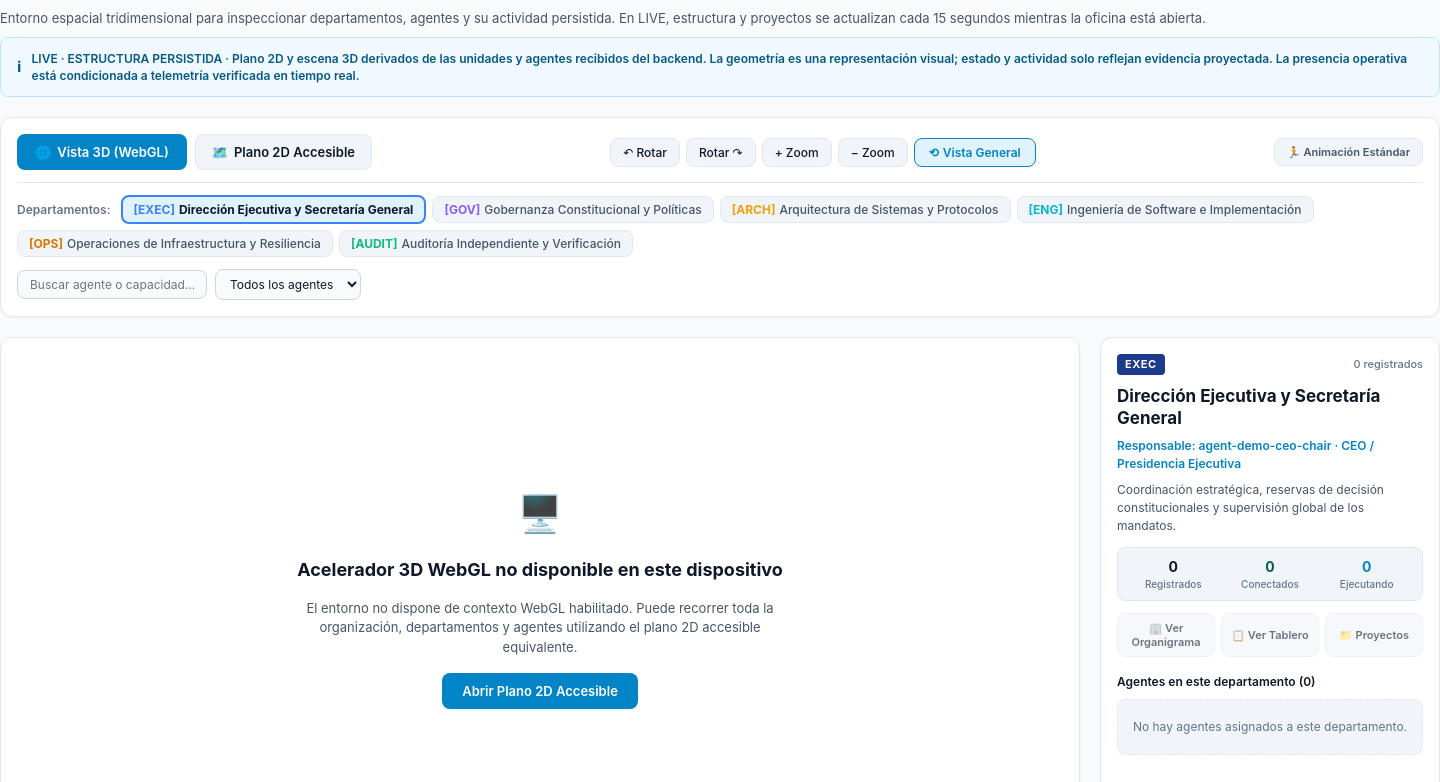
Test case: Phase F4.7: UI Contrast, Design Tokens & Operational Indicators › renders unknown department and unknown agent type truthfully without fabricating affiliations
Note: Switch to 2D Plan
Click the button "🗺️ Plano 2D Accesible" at coordinates (283, 152), box [195,134,372,170]
(page scrolled)
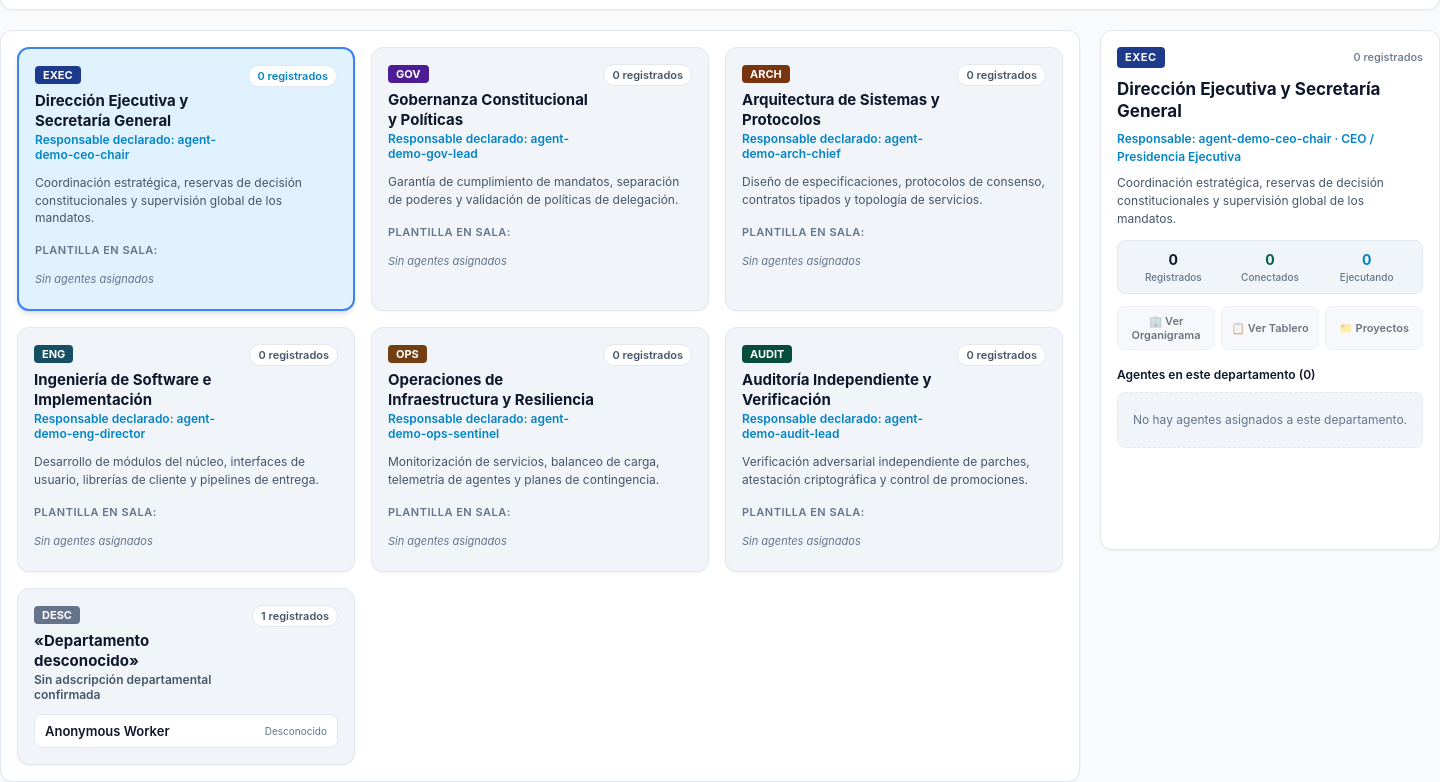
Now the heading "«Departamento desconocido»" is shown, box [34,631,149,670]
Note: Select the unknown agent button
Click the button "Anonymous Worker Desconocido" at coordinates (107, 731), box [34,714,338,748]
(page scrolled)
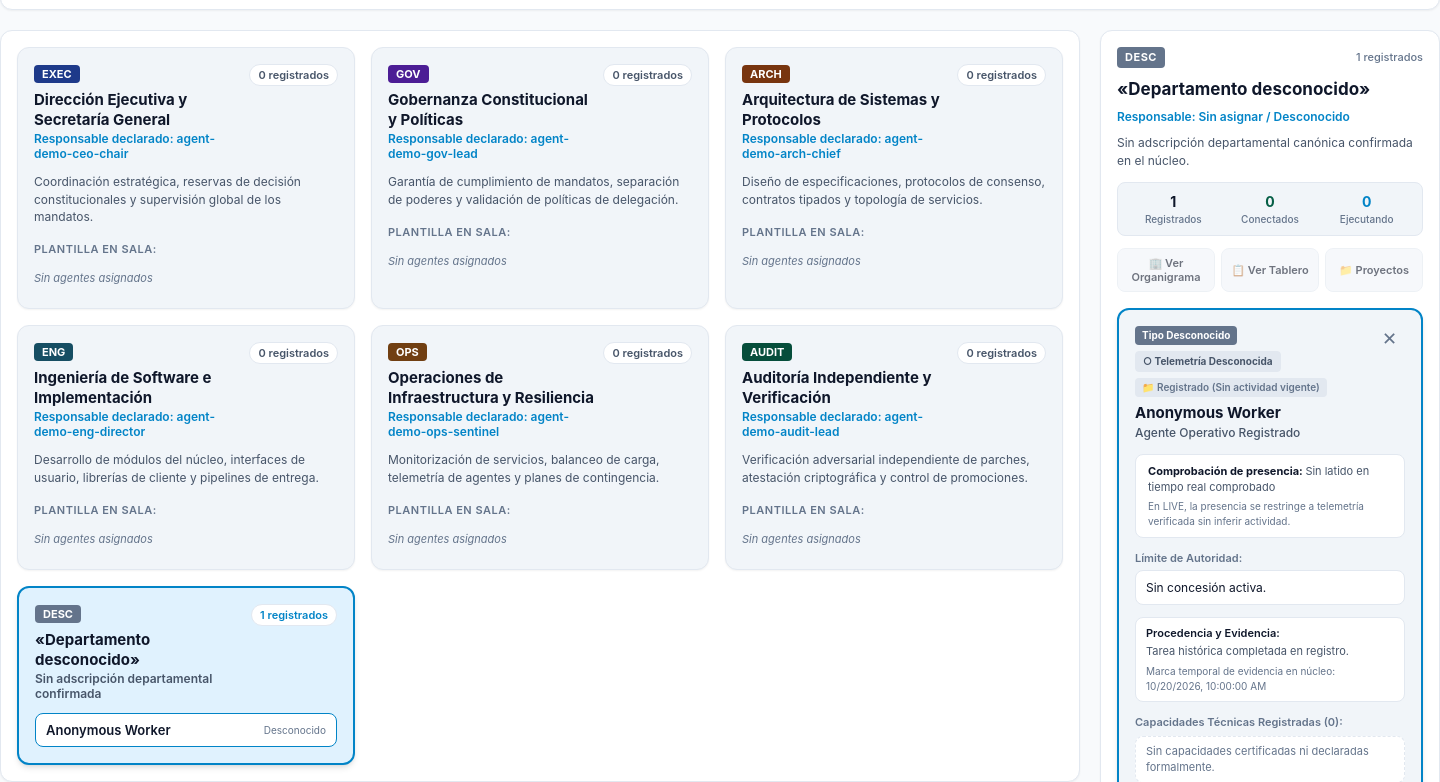
Now the text "Tipo Desconocido" is shown, box [1135,326,1237,345]
Now the text "Sin adscripción departamental canónica confirmada en el núcleo." is shown, box [1117,134,1423,170]
Now the text "Sin capacidades certificadas ni declaradas formalmente." is shown, box [1135,736,1405,781]
